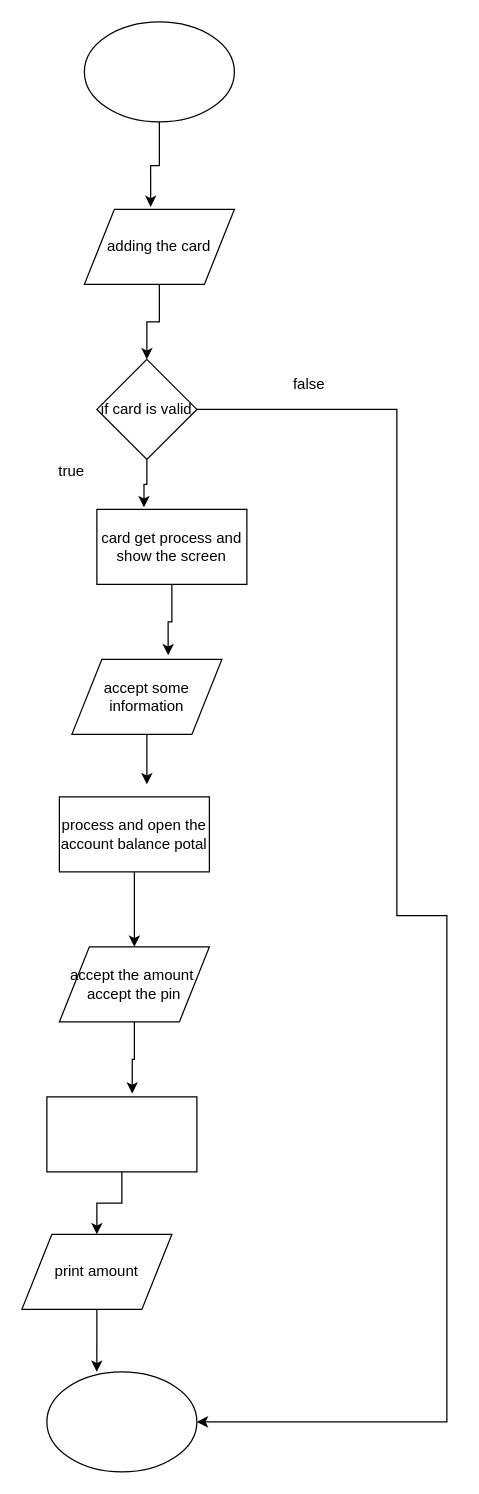
Image size: 479x1494. Some labels were removed from this diagram. The shapes that lost their labels are listed below. From the top down, each one's box as (x1, y1, x2, y2) in pixels, then its label:
(83, 21, 234, 122): start
(46, 1096, 197, 1172): check the account balance
(46, 1371, 197, 1472): stop
